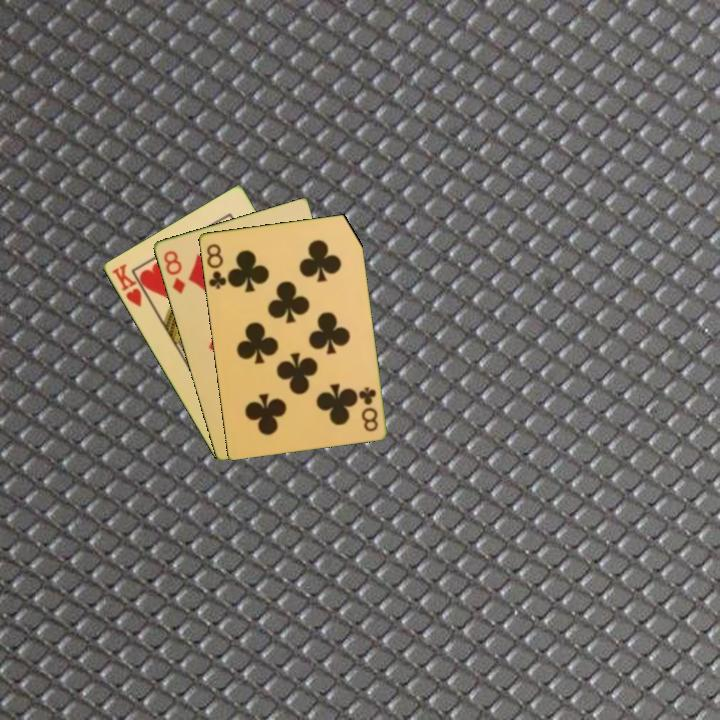8c: (203, 240, 229, 292), (355, 383, 381, 434)
8d: (160, 247, 188, 297)
Kh: (108, 260, 153, 310)
